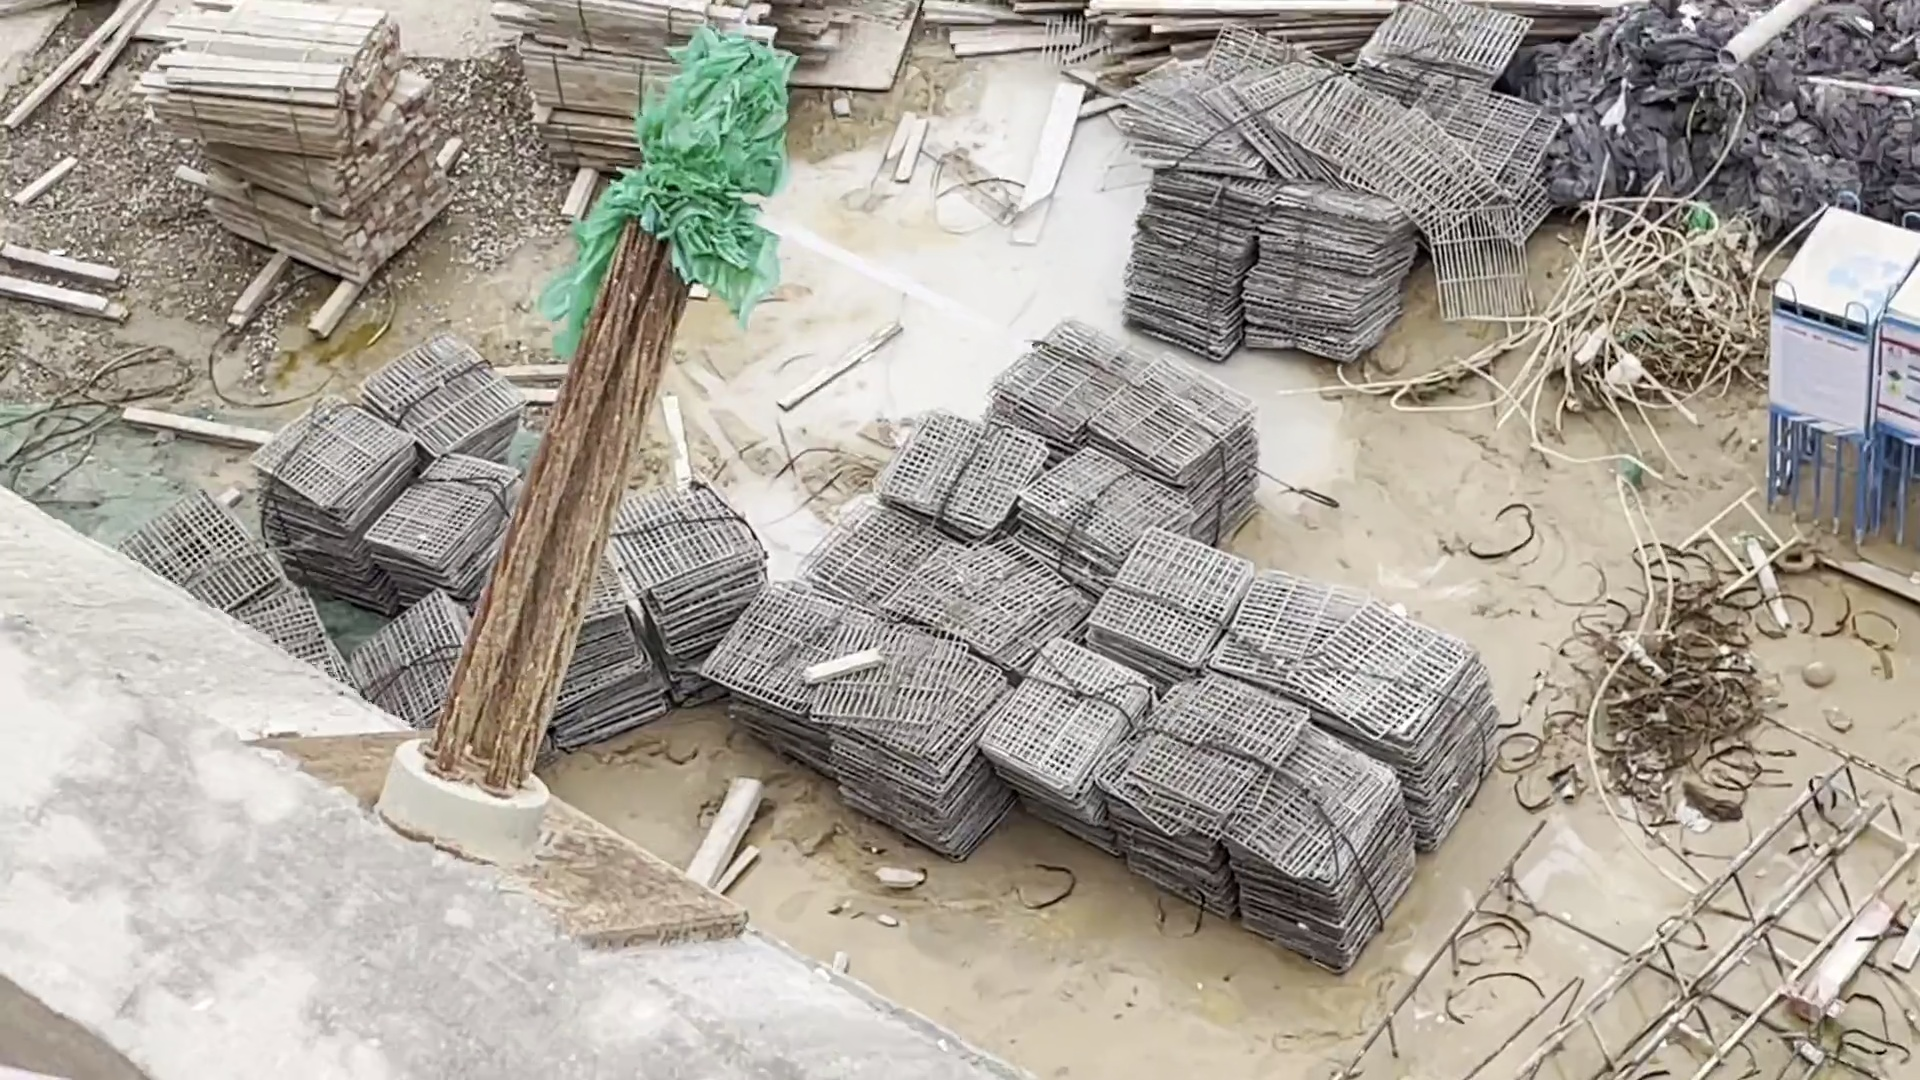wood: (123, 1, 436, 287), (510, 1, 746, 173)
